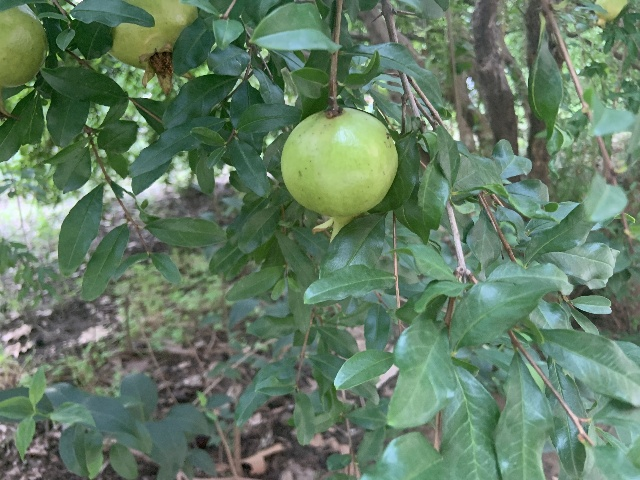mid-growth: (281, 107, 398, 243), (107, 0, 199, 93), (0, 3, 47, 121), (587, 0, 633, 29)
